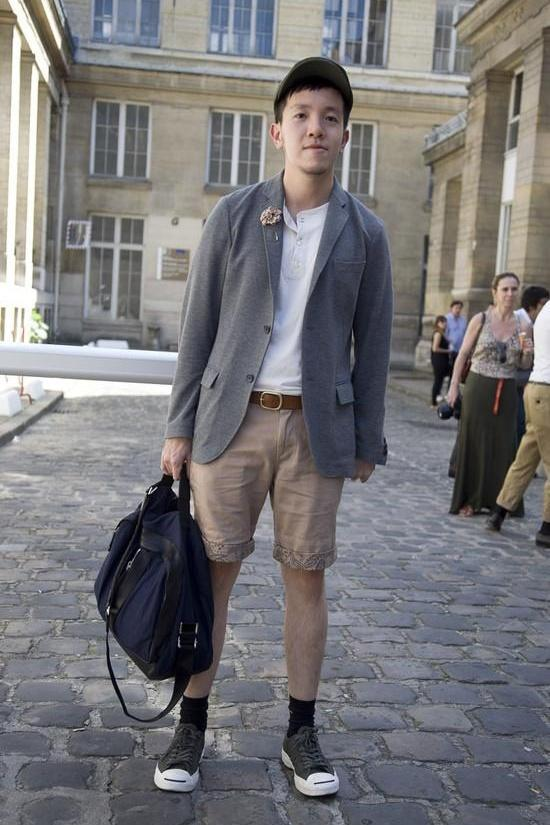short: (190, 388, 346, 572)
sweater: (160, 170, 388, 482)
